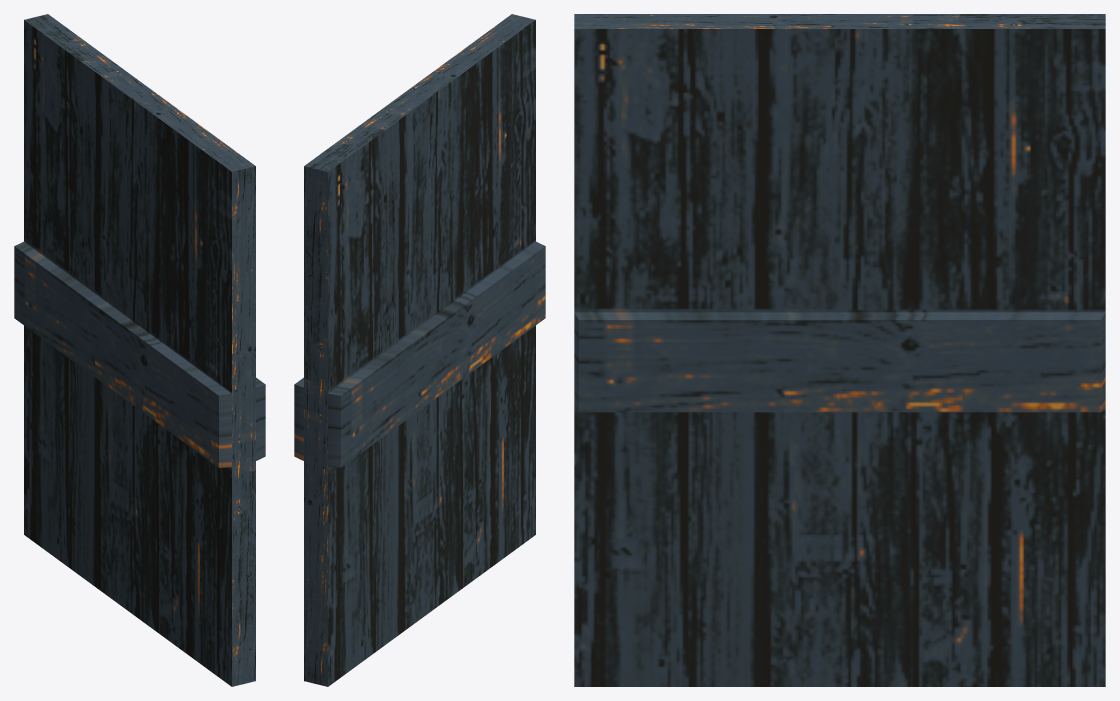
Rendered from barnDoor_R.fbx.
3 renders of one model, left to right at view 1: azimuth 30°, elevation 25°; view 2: azimuth 150°, elevation 25°; view 3: azimuth 270°, elevation 25°, orthographic. The views are drawn at different scales.
Visible parts, largest first — view 1: door_R; view 2: door_R; view 3: door_R.
Boxes of the visible parts, box(x1,y1,x2,y2) form: door_R: box(14, 14, 265, 686); door_R: box(294, 14, 545, 686); door_R: box(574, 14, 1105, 686).
Size of the model in its own units: 0.3887 by 4.1 by 3.
